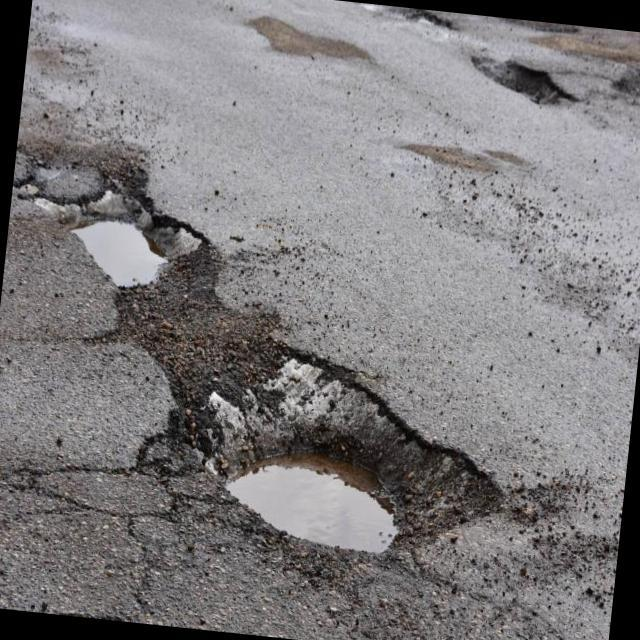Pothole: (16, 161, 497, 554), (473, 59, 575, 104)
